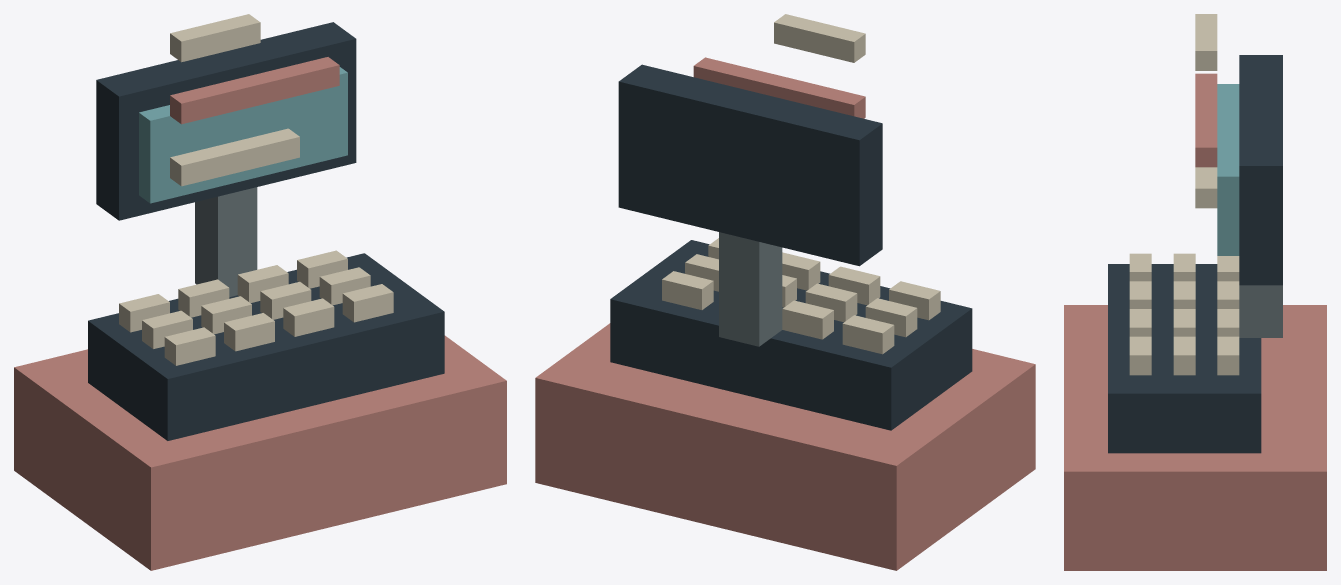
Rendered from commerce-02.glb.
The picture shows the model from 3 angles, left to right: view 1: azimuth 30°, elevation 25°; view 2: azimuth 150°, elevation 25°; view 3: azimuth 270°, elevation 25°; orthographic projection. The views are drawn at different scales.
Parts seen in each view (by area): view 1: Checkout till; view 2: Checkout till; view 3: Checkout till.
Part boxes in pixels (x1,y1,x2,y2): Checkout till: [14, 14, 506, 570]; Checkout till: [535, 14, 1035, 570]; Checkout till: [1064, 14, 1326, 570].
Size of the model in its own units: 1.44 by 1.76 by 0.96.
